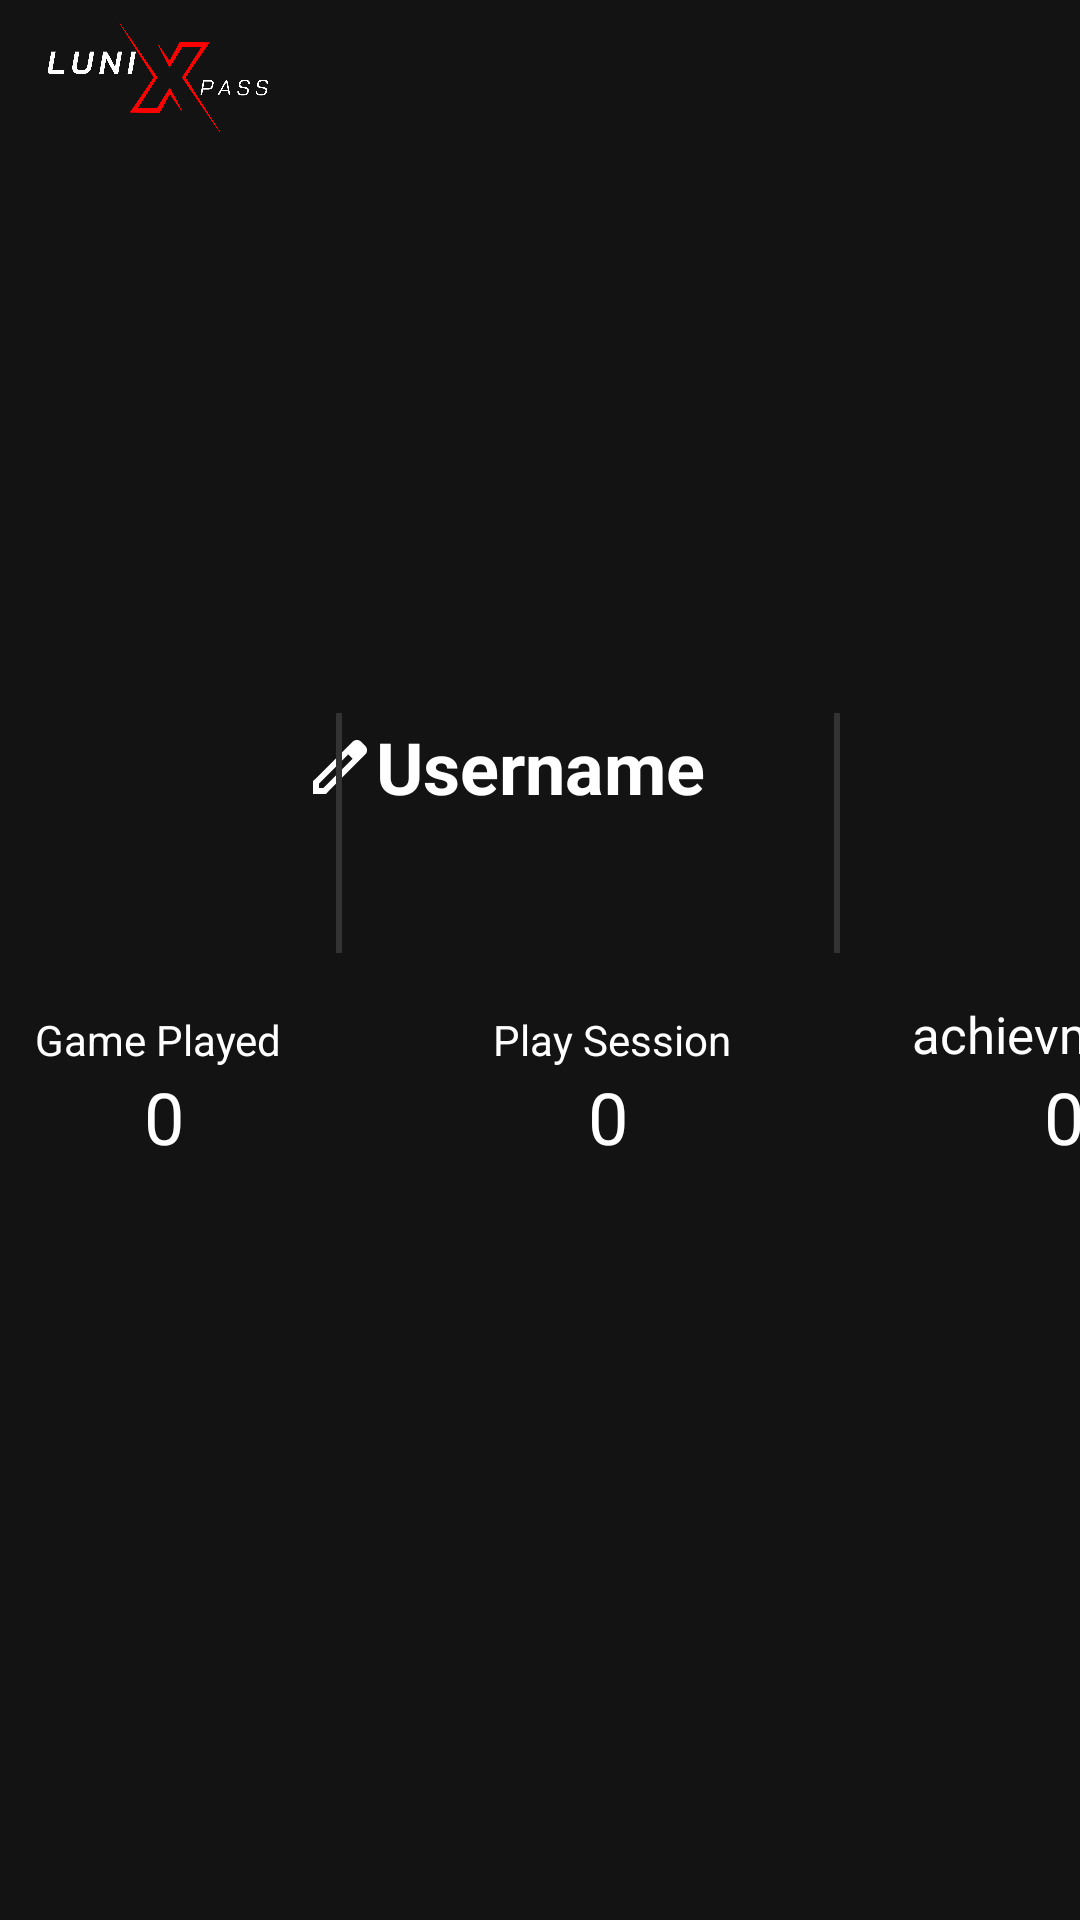

Locate icon controls on the screen. Image size 1080px x 1920px, boxes as (x1, y1, x2, y2).
edit: (313, 731, 367, 803)
